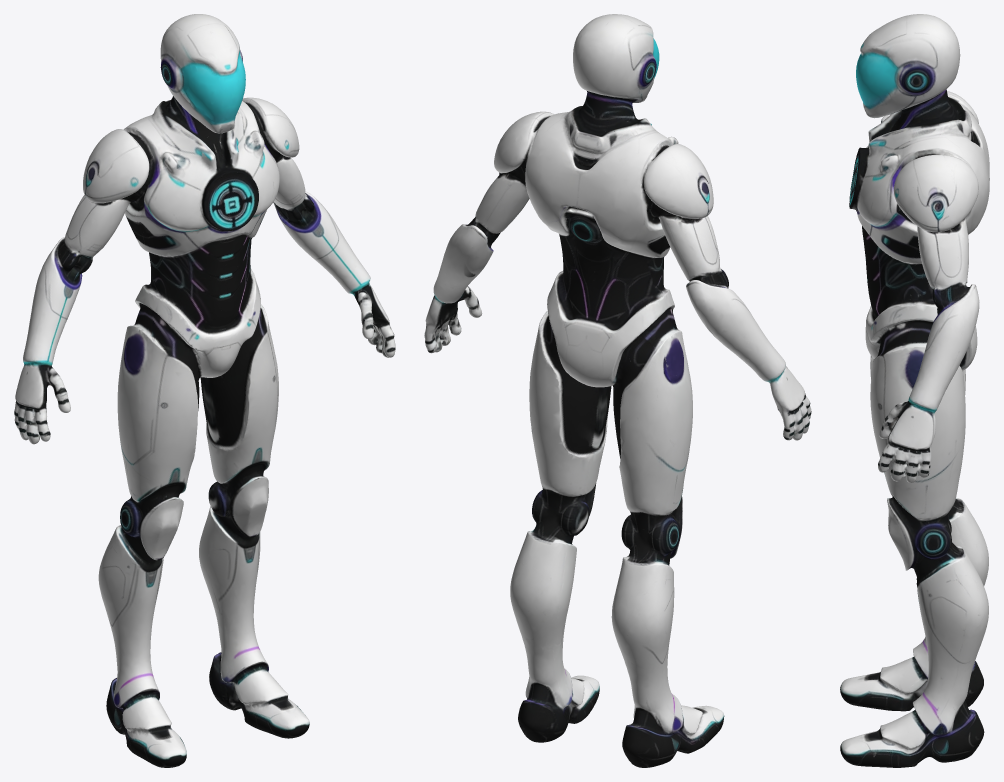
Rendered from BV01_clean_blue_visor_base.glb.
3 views of the same model, side by side, from view 1: azimuth 30°, elevation 25°; view 2: azimuth 150°, elevation 25°; view 3: azimuth 270°, elevation 25° (orthographic).
Size of the model in its own units: 1.03 by 1.9 by 0.361.
Materials: 1 (1 with a texture image).
